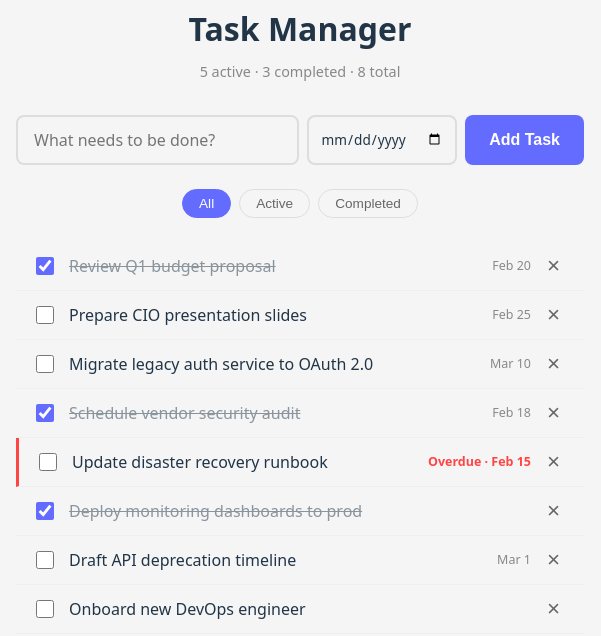
Test: Task Manager — End to End › filters tasks by active status
This screenshot has width=601, height=636.
Click the button "Active": (275, 204) [239,189,310,218]
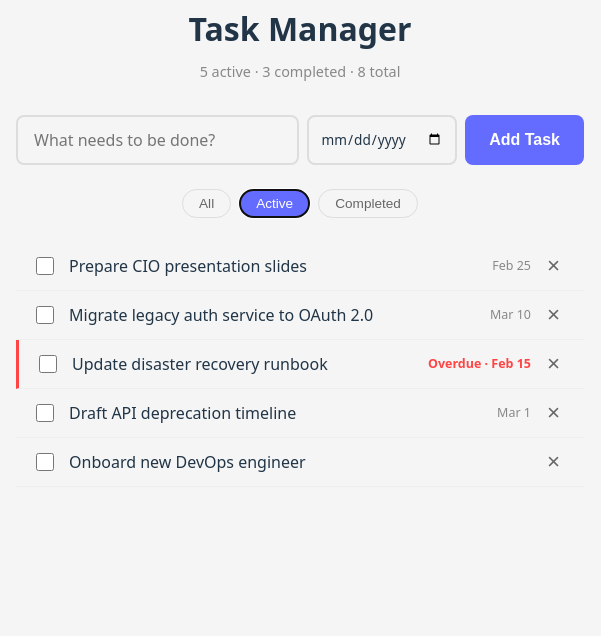
Expected: the text "Prepare CIO presentation slides" is shown, [69,254,307,278]
Expected: the text "Review Q1 budget proposal" is gone
Expected: the text "Schedule vendor security audit" is gone
